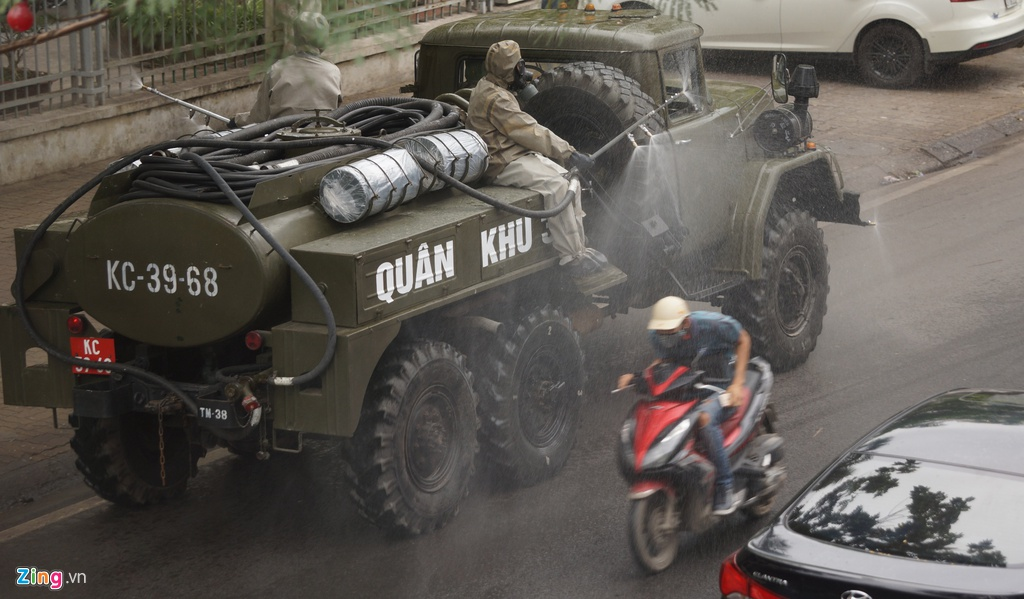plate: (71, 336, 117, 378)
